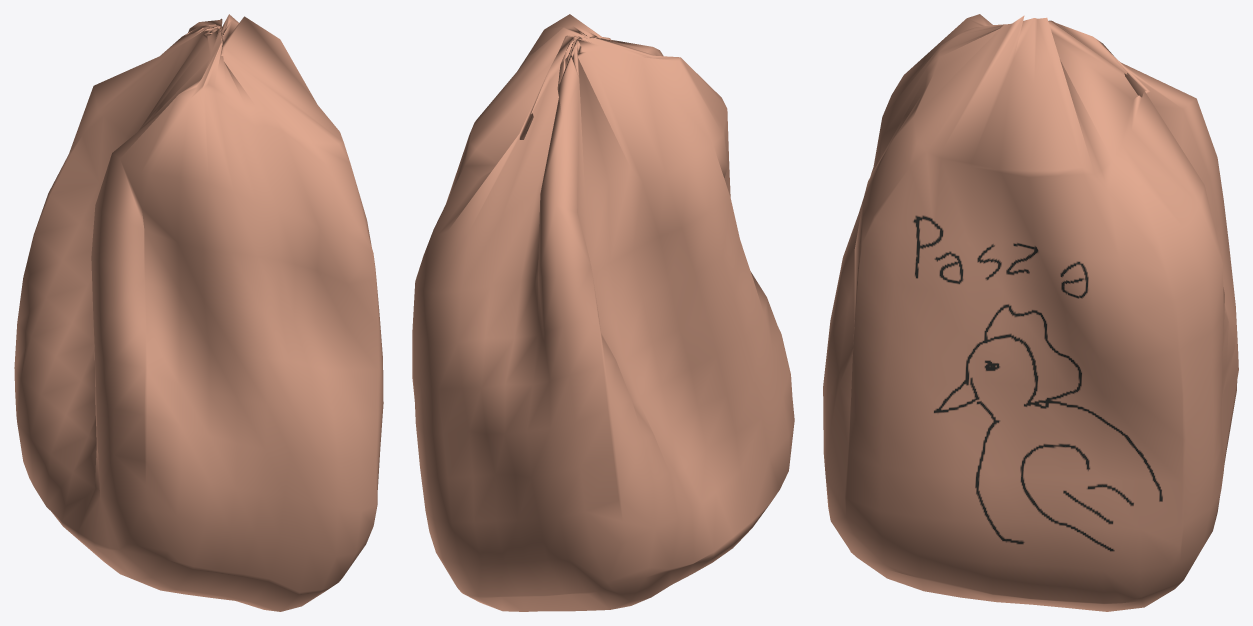
The model's file is pasza worek.glb.
The picture shows the model from 3 angles, left to right: view 1: azimuth 30°, elevation 25°; view 2: azimuth 150°, elevation 25°; view 3: azimuth 270°, elevation 25°; orthographic projection. The views are drawn at different scales.
Visible parts, largest first — view 1: Mball.001; view 2: Mball.001; view 3: Mball.001.
Part boxes in pixels (x1,y1,x2,y2): Mball.001: (14,14,383,611); Mball.001: (412,14,794,611); Mball.001: (823,14,1238,611).
Bounding box in the file's own units: 5.64 × 11.16 × 7.21.
Materials: 1 (1 with a texture image).
